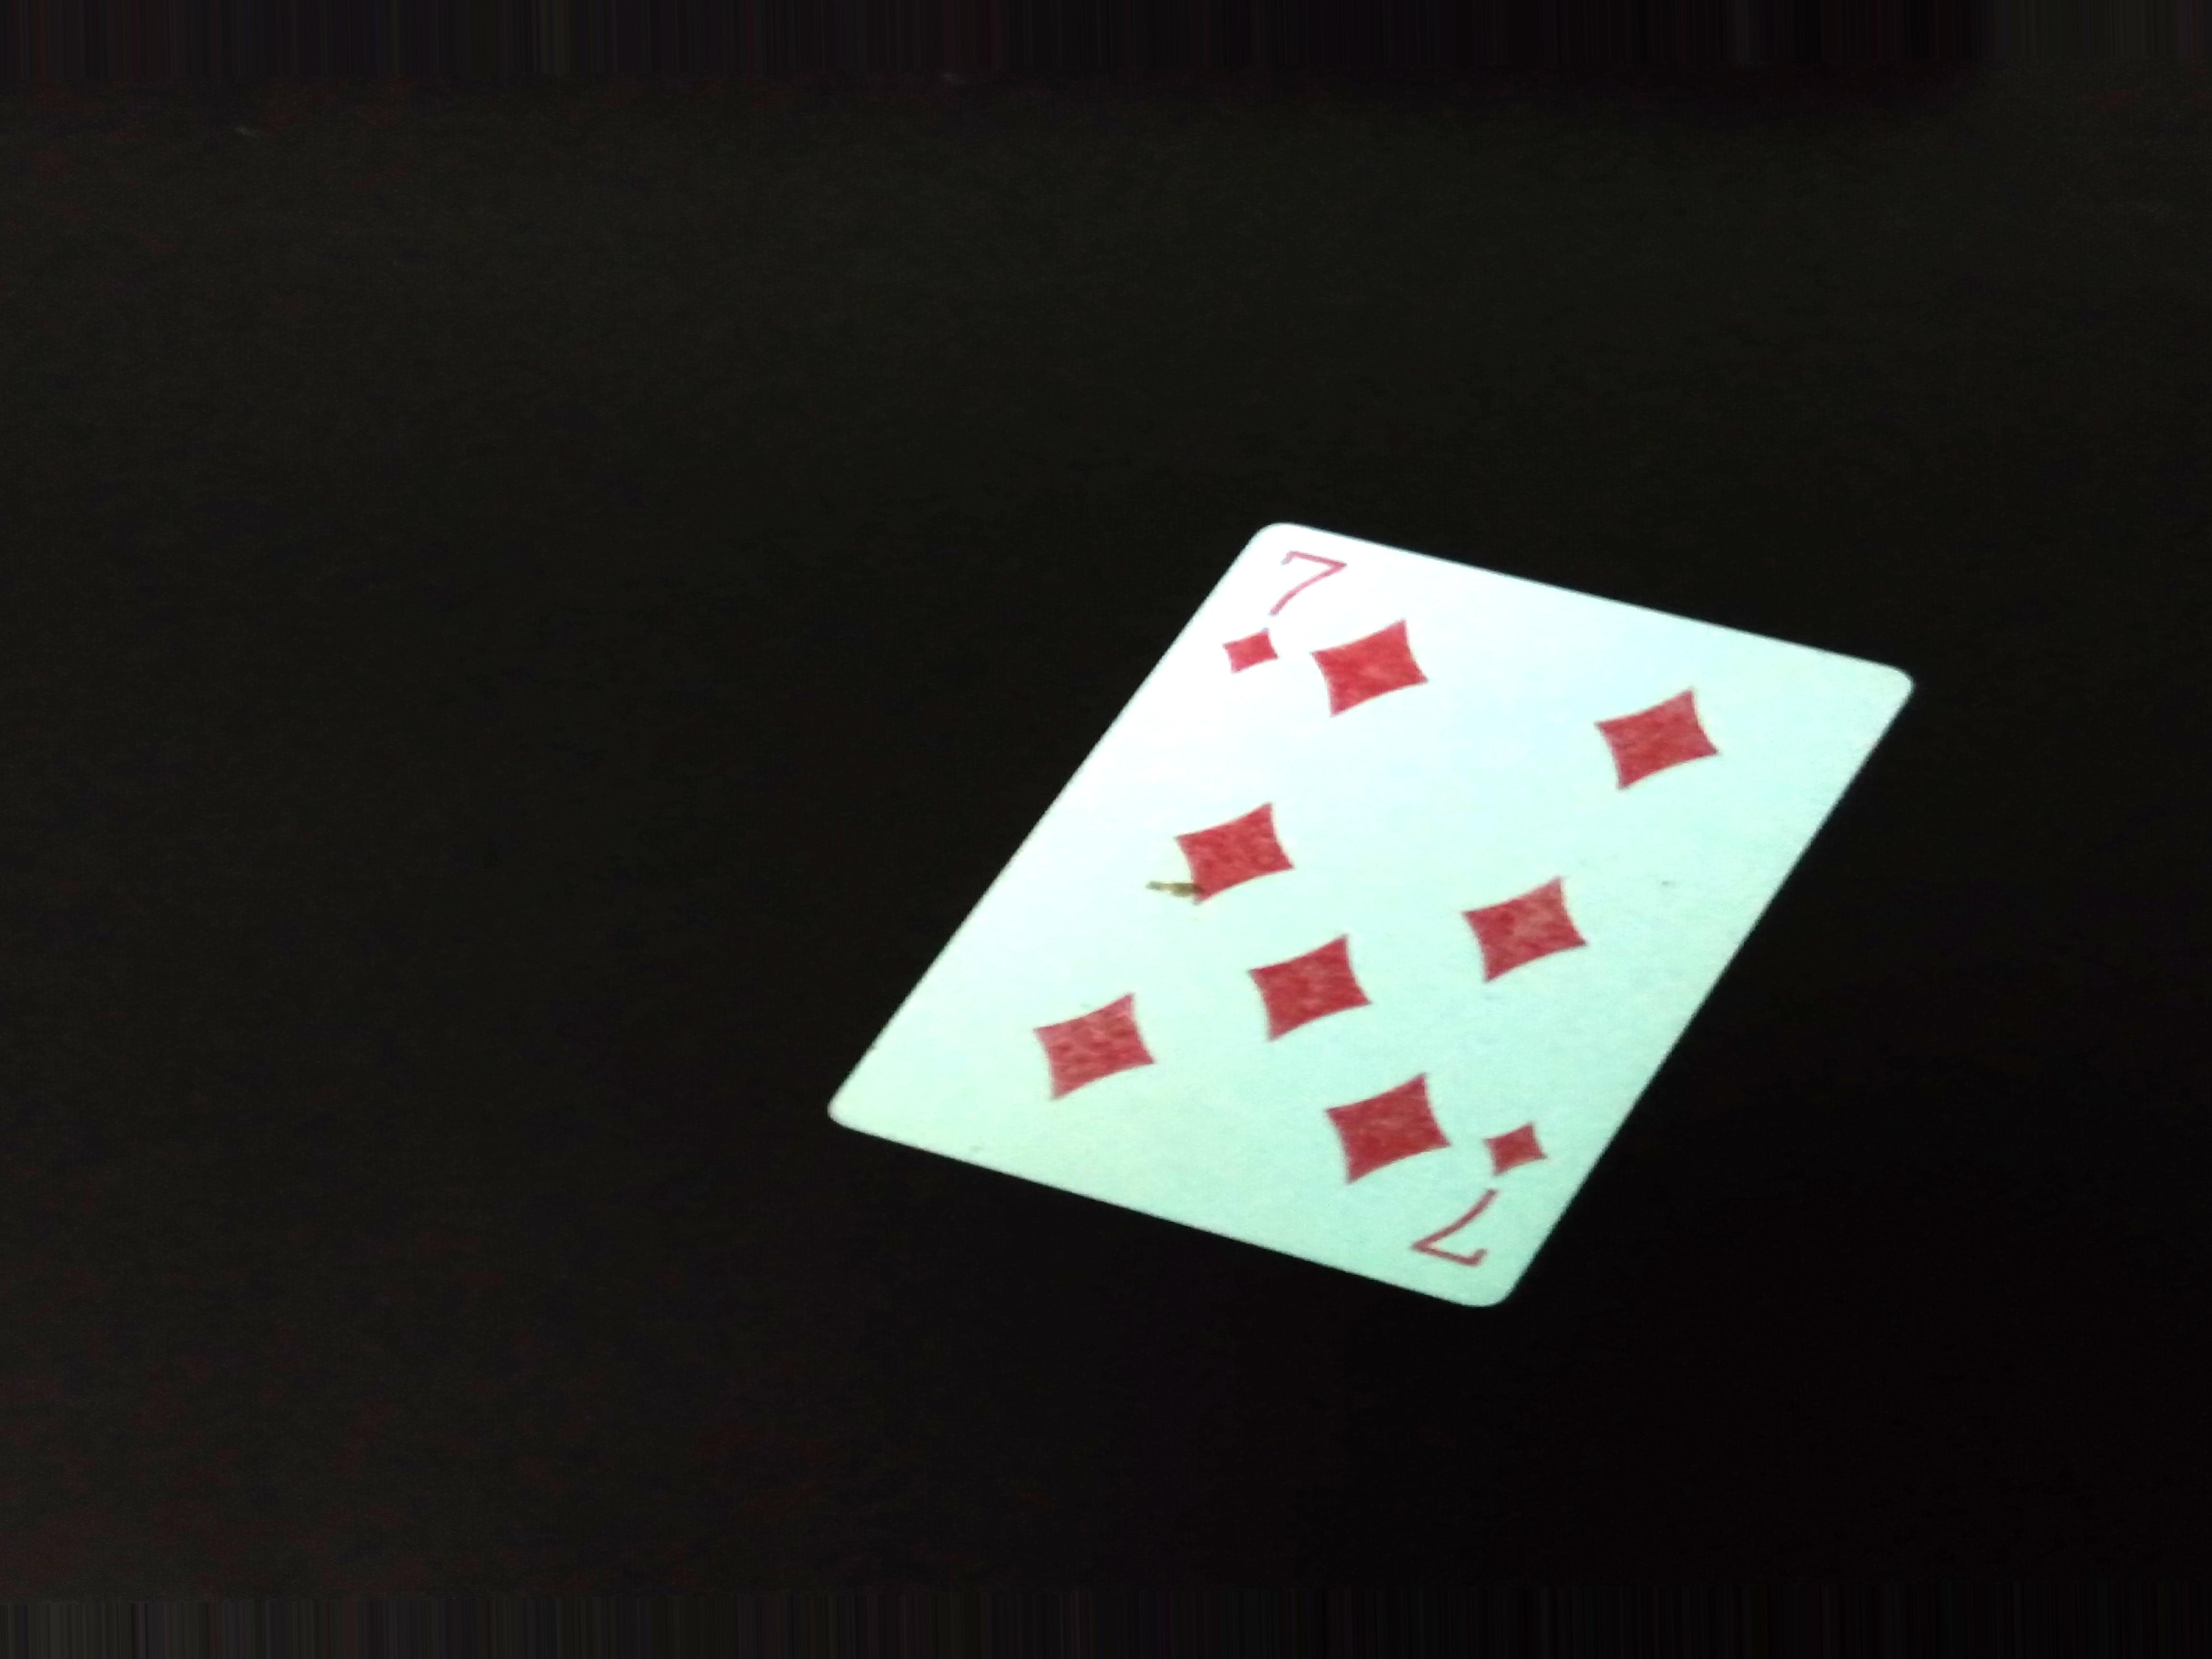7D: (1197, 530, 1352, 688)
